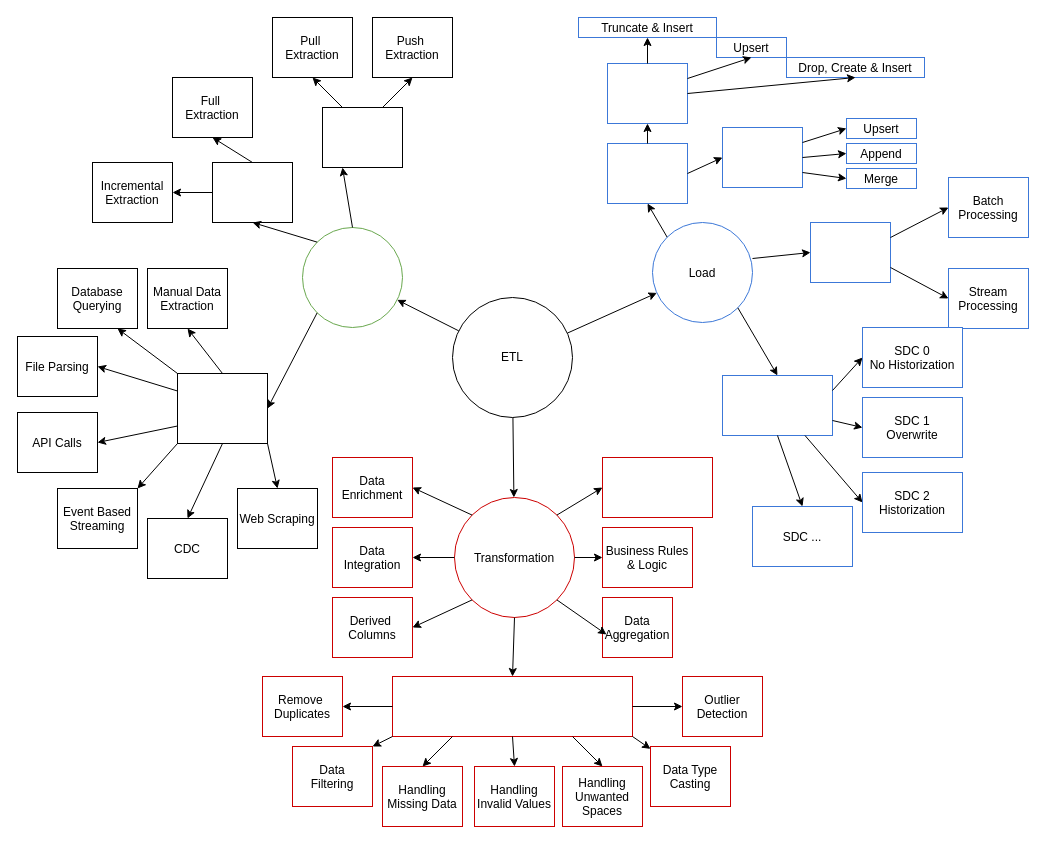
Image size: 1046x844. Some labels were removed from this diagram. Here are the shapes that lost their labels. From the top down, the centre of each, then its label:
(647,93): Full Load
(362,137): Extraction methods
(762,157): Incremental Load
(252,192): Extract Types
(647,173): Load methods
(850,252): Processing Types
(352,277): Extraction
(222,408): Extract Techniques
(777,405): Slowly Chasing Dimensions (SDC)
(657,487): Data Normalization & Standarization
(512,706): Data Cleansing
